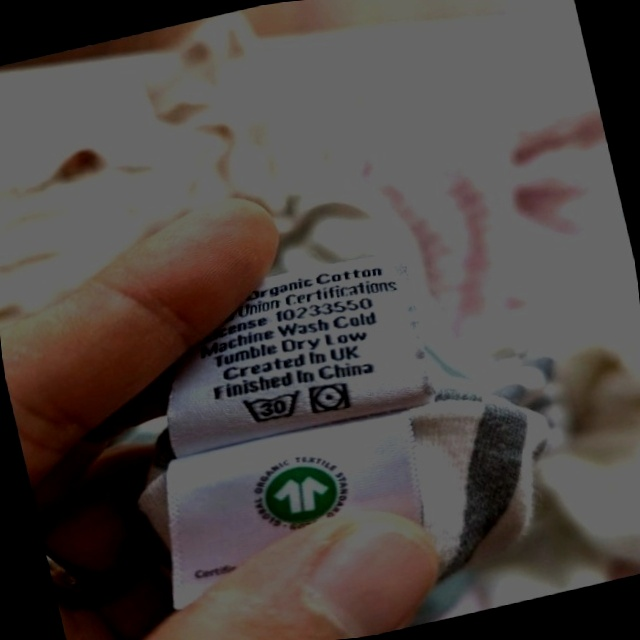30C: (235, 383, 308, 432)
tumble_dry_low: (304, 376, 356, 421)
